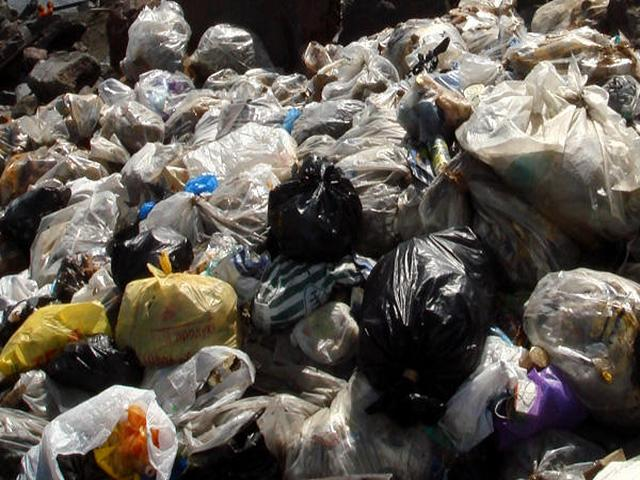garbage: (14, 62, 633, 470)
